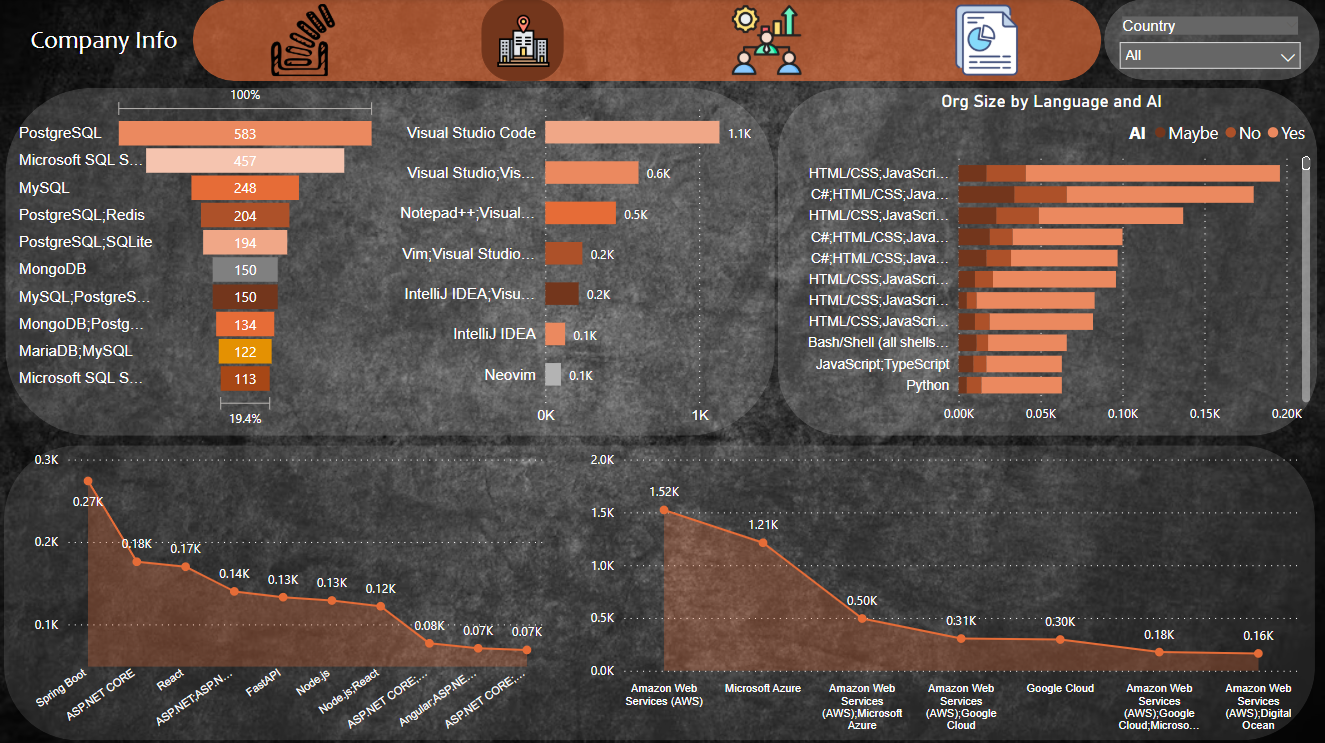

The dashboard page shown, as its layout file describes it:
{"tool":"powerbi","page":{"name":"Company info","canvas":[1280,720],"ordinal":1},"visuals":[{"type":"shape","box":[752,85.8,520.6,335.9],"z":0},{"type":"shape","box":[1066.3,0,208.3,78.3],"z":1000},{"type":"shape","box":[5.6,85.8,742.6,335.9],"z":2000},{"type":"shape","box":[4.5,430.2,1265,284.8],"z":3000},{"type":"shape","box":[186.8,0,876.6,79],"z":4000},{"type":"image","box":[465.6,0,79,79],"z":5000},{"type":"image","box":[686.9,0,106.3,79],"z":6000},{"type":"image","box":[896.8,0,110.7,79],"z":7000},{"type":"image","box":[247.2,0,92,79],"z":8000},{"type":"funnel","fields":{"Category":["survey_results_public.DatabaseHaveWorkedWith"],"Y":["CountNonNull(survey_results_public.Org Size)"]},"box":[15.1,77.4,355.2,341.7],"z":9000},{"type":"areaChart","fields":{"Category":["survey_results_public.PlatformHaveWorkedWith"],"Y":["CountNonNull(survey_results_public.Org Size)"]},"box":[553.1,430.1,711.9,284.8],"z":10000},{"type":"areaChart","fields":{"Category":["survey_results_public.WebframeHaveWorkedWith"],"Y":["CountNonNull(survey_results_public.Org Size)"]},"box":[19.5,430.1,514.1,284.8],"z":11000},{"type":"barChart","fields":{"Category":["survey_results_public.NEWCollabToolsHaveWorkedWith"],"Y":["CountNonNull(survey_results_public.Org Size)"]},"box":[370.3,89.4,401.7,329.7],"z":12000},{"type":"barChart","title":"Org Size by Language and AI","fields":{"Category":["survey_results_public.LanguageHaveWorkedWith"],"Y":["CountNonNull(survey_results_public.Org Size)"],"Series":["survey_results_public.AISelect"]},"box":[761.3,87.7,509.4,330.3],"z":13000},{"type":"slicer","title":"country Slicer","fields":{"Values":["survey_results_public.Country"]},"box":[1071.3,11.7,195,58.3],"z":14000},{"type":"textbox","box":[25.3,19.3,168.8,72.4],"z":14001}]}

Visuals, with their boxes in screenshot pixels (x1, y1, x2, y2), scaled from the page's 1280x720 canvas onto the 1325x743 screenshot:
shape: left=778, top=89, right=1317, bottom=435
shape: left=1104, top=0, right=1319, bottom=81
shape: left=6, top=89, right=775, bottom=435
shape: left=5, top=444, right=1314, bottom=738
shape: left=193, top=0, right=1101, bottom=82
image: left=482, top=0, right=564, bottom=82
image: left=711, top=0, right=821, bottom=82
image: left=928, top=0, right=1043, bottom=82
image: left=256, top=0, right=351, bottom=82
funnel - survey_results_public.DatabaseHaveWorkedWith x CountNonNull(survey_results_public.Org Size): left=16, top=80, right=383, bottom=432
areaChart - survey_results_public.PlatformHaveWorkedWith x CountNonNull(survey_results_public.Org Size): left=573, top=444, right=1309, bottom=738
areaChart - survey_results_public.WebframeHaveWorkedWith x CountNonNull(survey_results_public.Org Size): left=20, top=444, right=552, bottom=738
barChart - survey_results_public.NEWCollabToolsHaveWorkedWith x CountNonNull(survey_results_public.Org Size): left=383, top=92, right=799, bottom=432
"Org Size by Language and AI" barChart: left=788, top=91, right=1315, bottom=431
"country Slicer" slicer: left=1109, top=12, right=1311, bottom=72
textbox: left=26, top=20, right=201, bottom=95
